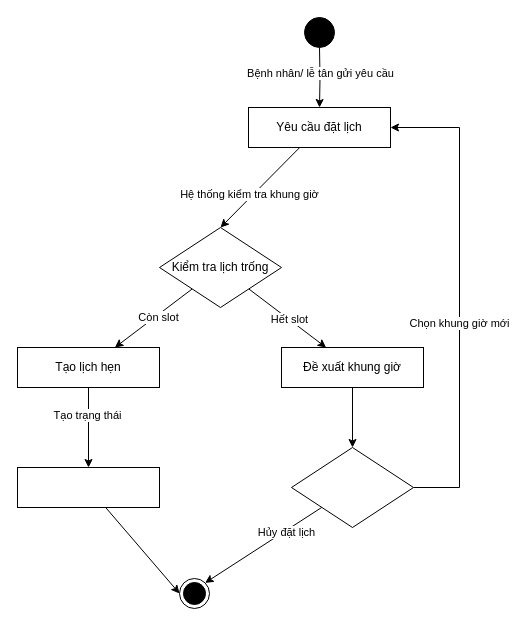
The diagram is 526 pixels wide and 626 high, and some of its shapes have lost their labels. The shapes that lost their labels are listed below. From the top down, each one's centre as x and y in pixels, then its label:
(x=88, y=487): Lưu vào CSDL
(x=352, y=487): Khách hàng chọn
